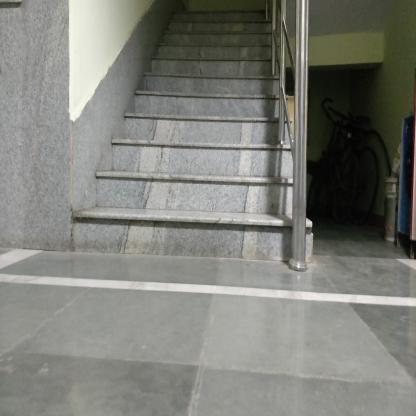stairs: (142, 73, 278, 275)
